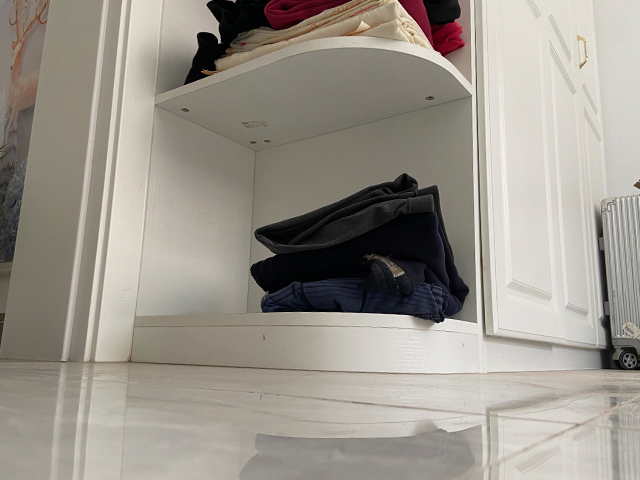cabinet: (1, 1, 608, 376)
